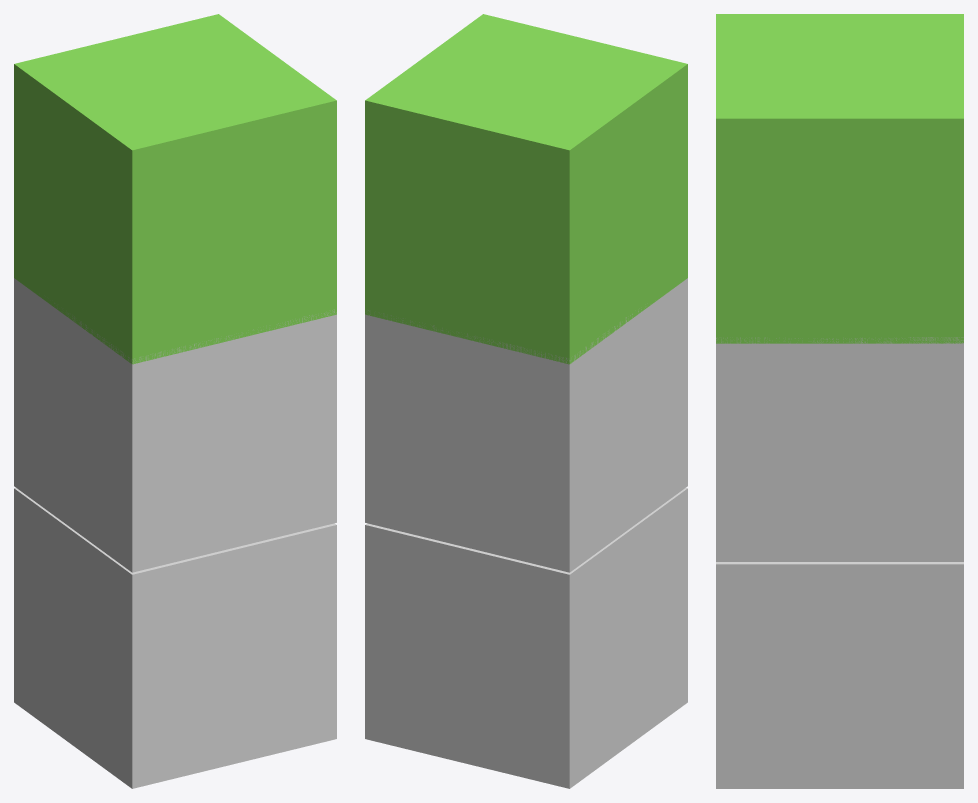
3 views of the same model, side by side, from view 1: azimuth 30°, elevation 25°; view 2: azimuth 150°, elevation 25°; view 3: azimuth 270°, elevation 25° (orthographic). The views are drawn at different scales.
Visible parts, largest first — view 1: Cube.002; view 2: Cube.002; view 3: Cube.002.
Part boxes in pixels (left/top/right/bottom): Cube.002: left=14, top=14, right=336, bottom=788; Cube.002: left=365, top=14, right=687, bottom=788; Cube.002: left=716, top=14, right=963, bottom=788.
Bounding box in the file's own units: 2 × 5.96 × 2.
